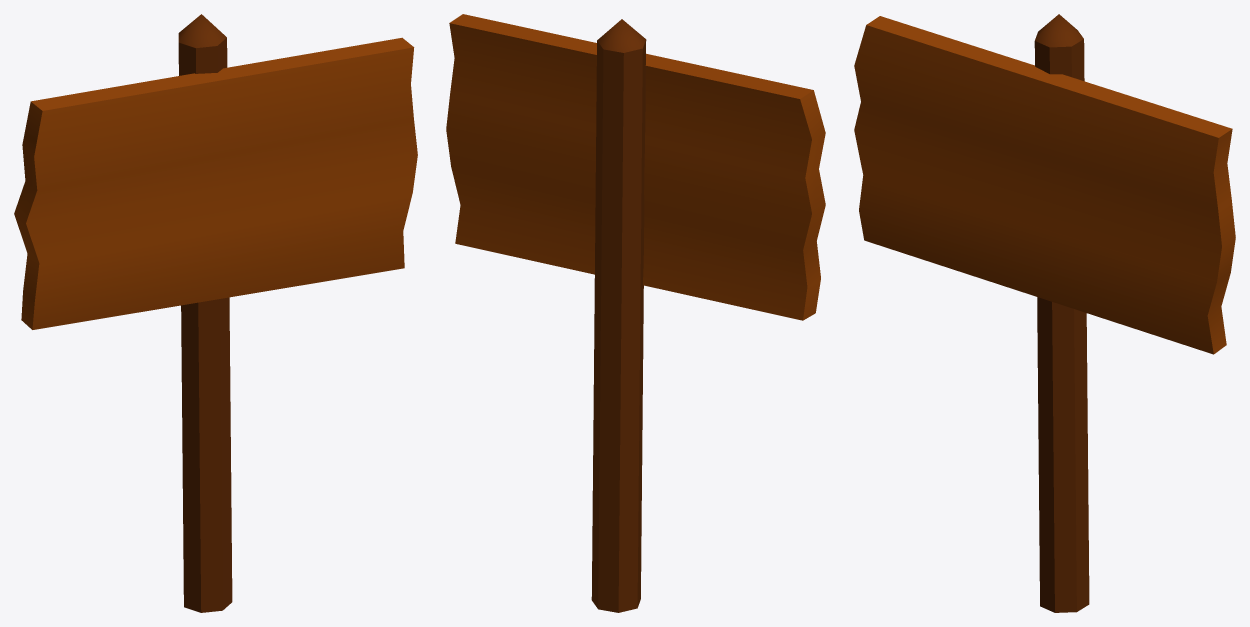
Rendered from sign.fbx.
3 views of the same model, side by side, from view 1: azimuth 30°, elevation 25°; view 2: azimuth 150°, elevation 25°; view 3: azimuth 330°, elevation 25° (orthographic).
Visible parts, largest first — view 1: polySurface2; view 2: polySurface2; view 3: polySurface2.
Boxes of the visible parts, x1,y1,x2,y2 form: polySurface2: [14, 14, 417, 612]; polySurface2: [446, 14, 825, 612]; polySurface2: [854, 14, 1235, 612].
Size of the model in its own units: 4.74 by 7 by 0.8451.
